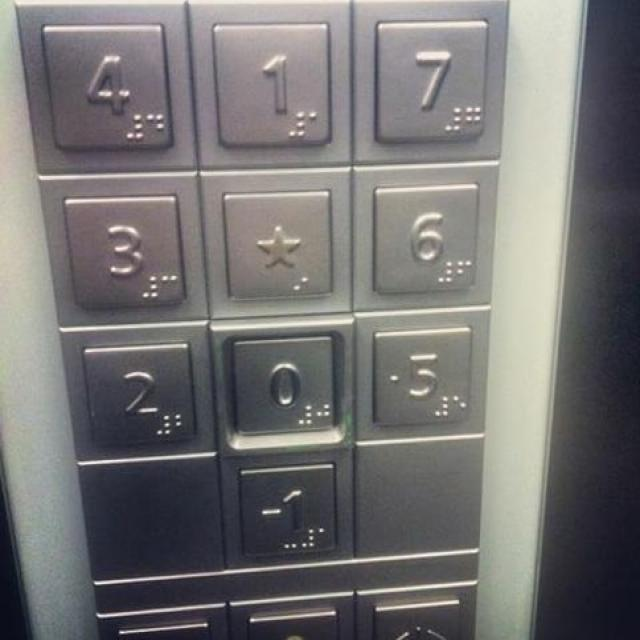-1: (232, 457, 342, 563)
0: (222, 326, 345, 446)
1: (206, 16, 336, 151)
2: (75, 334, 200, 450)
3: (56, 188, 193, 313)
4: (35, 17, 178, 156)
5: (366, 321, 475, 428)
6: (364, 177, 485, 299)
7: (365, 11, 491, 145)
s: (217, 183, 340, 304)
